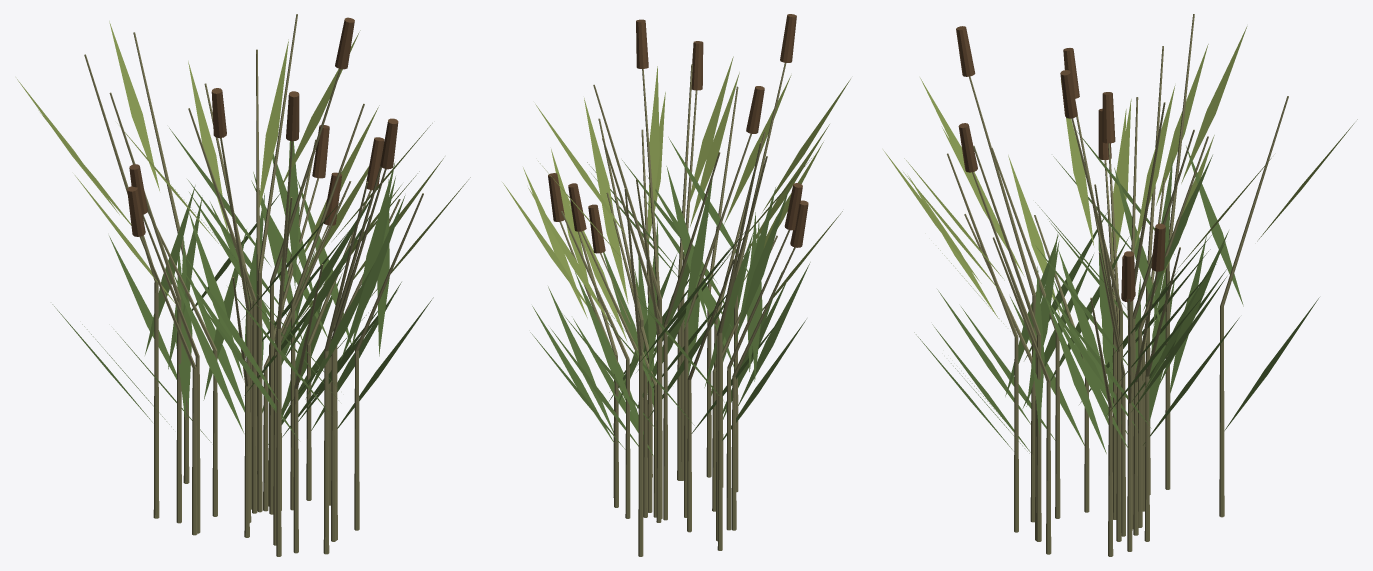
File: reeds.glb
The picture shows the model from 3 angles, left to right: view 1: azimuth 30°, elevation 25°; view 2: azimuth 150°, elevation 25°; view 3: azimuth 270°, elevation 25°; orthographic projection. The views are drawn at different scales.
Visible parts, largest first — view 1: reeds; view 2: reeds; view 3: reeds.
Boxes of the visible parts, x1,y1,x2,y2 form: reeds: (17,14,470,556); reeds: (502,14,850,556); reeds: (883,14,1357,556).
Size of the model in its own units: 1.87 by 2.47 by 2.21.
